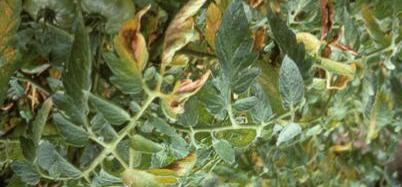Tomato Early blight leaf: (157, 0, 227, 72), (112, 7, 151, 97), (124, 151, 203, 187), (160, 71, 218, 118), (19, 96, 54, 168), (0, 0, 24, 67)
Tomato leaf: (56, 17, 94, 120), (214, 0, 253, 95), (279, 54, 302, 110)
